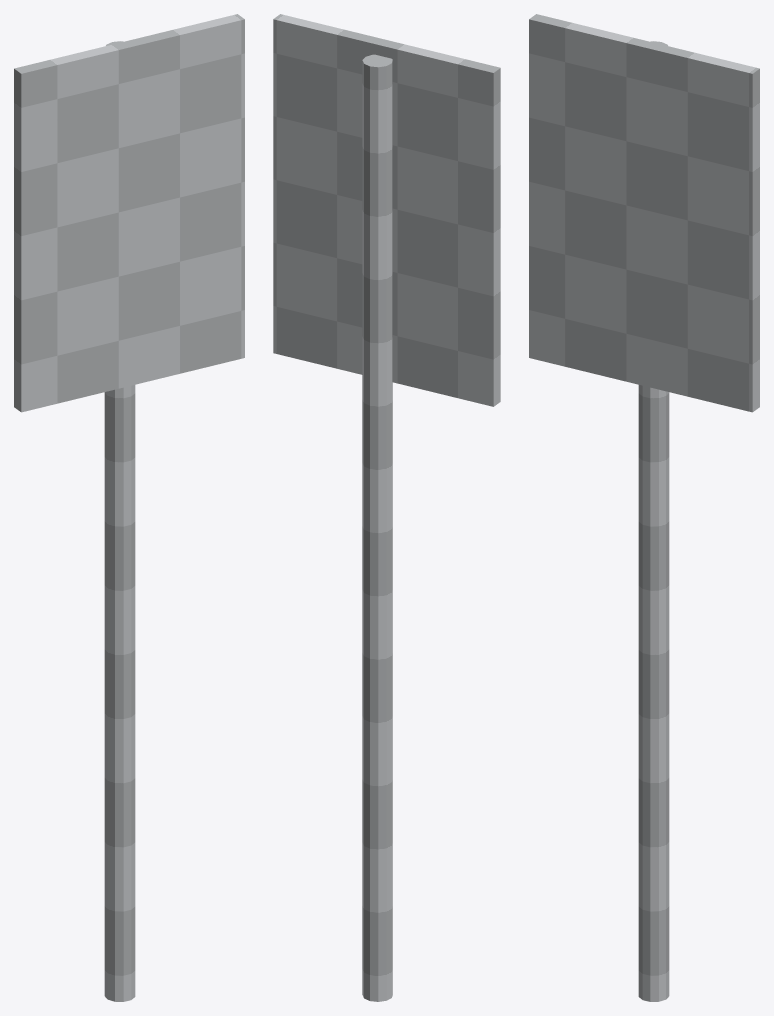
File: bus_sign.glb
The picture shows the model from 3 angles, left to right: view 1: azimuth 30°, elevation 25°; view 2: azimuth 150°, elevation 25°; view 3: azimuth 330°, elevation 25°; orthographic projection.
Visible parts, largest first — view 1: Cylinder; view 2: Cylinder; view 3: Cylinder.
Part boxes in pixels (box(x1,y1,x2,y2)): Cylinder: box(14, 14, 244, 1001); Cylinder: box(273, 14, 500, 1001); Cylinder: box(529, 14, 759, 1001).
Bounding box in the file's own units: 0.8836 × 3.62 × 0.1425.
Materials: 1 (1 with a texture image).
